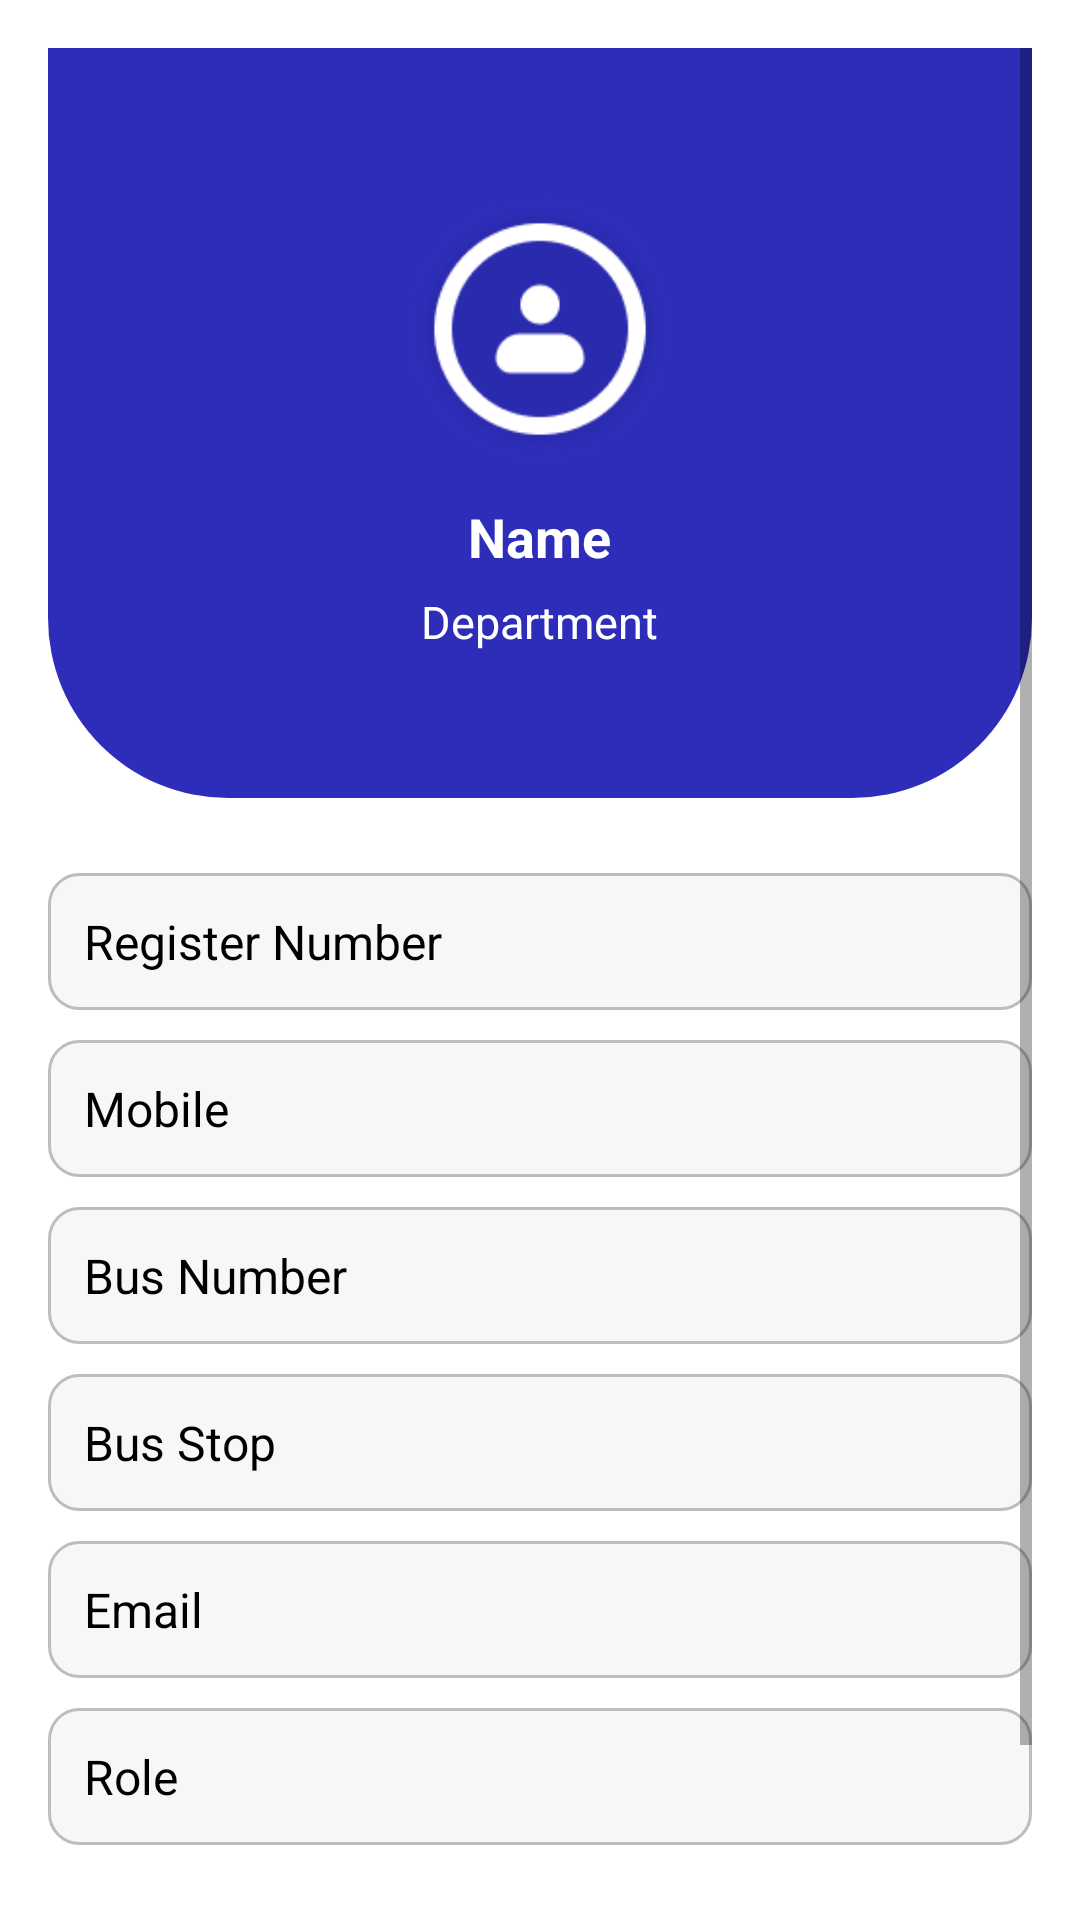

Locate icon controls on the screen. Image size 1080 × 1920, boxes as (x1, y1, x2, y2).
Profile Icon: (427, 217, 653, 442)
